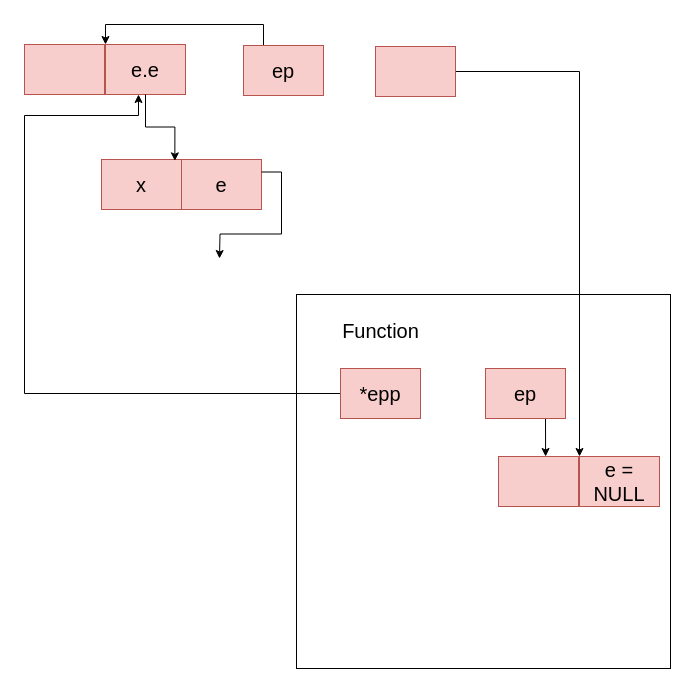
Some shapes in this 688 by 686 pixel diagram are drawn without their labels. The box of each missing label's shape, as (x1, y1, x2, y2) in pixels:
e.x = 1.2: (24, 44, 104, 94)
eq: (374, 46, 456, 96)
x= 1.2: (498, 456, 578, 506)
